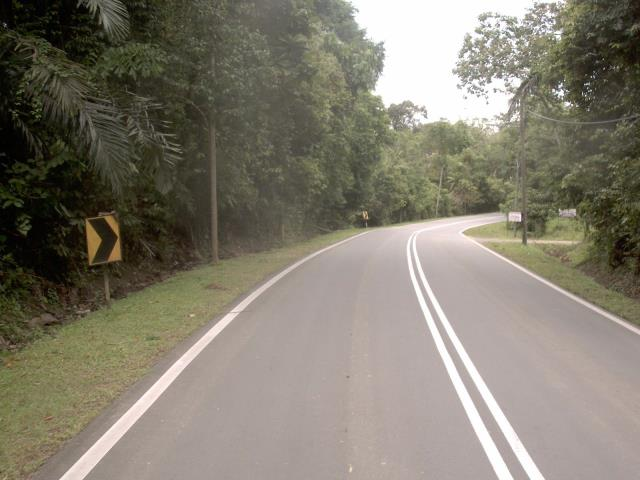traffic_sign: (77, 204, 129, 274)
